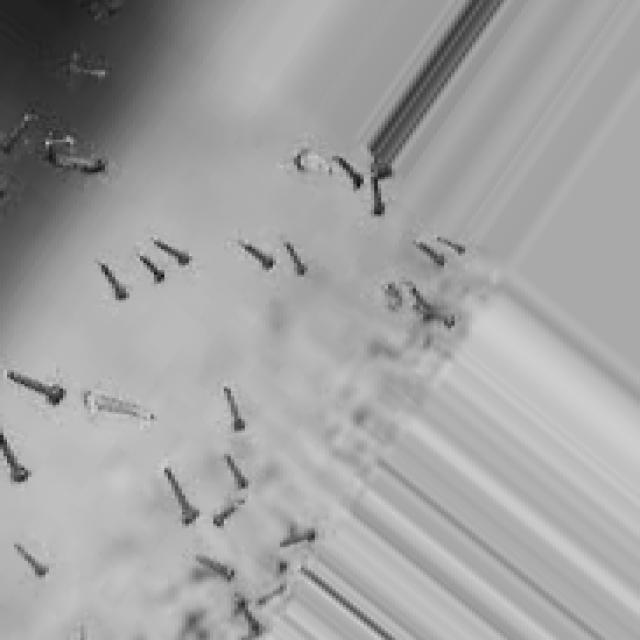larvas: (41, 140, 105, 172), (161, 468, 197, 523), (10, 370, 67, 402), (5, 110, 40, 146), (230, 597, 265, 632), (225, 380, 247, 434), (0, 430, 24, 479), (149, 240, 194, 265), (68, 54, 112, 78), (15, 545, 49, 575), (102, 263, 130, 298), (256, 580, 291, 604), (137, 255, 164, 284), (294, 148, 324, 174), (240, 246, 277, 267), (198, 555, 231, 578), (288, 240, 310, 274), (280, 527, 319, 546), (415, 311, 460, 327), (228, 454, 247, 491), (212, 499, 238, 525), (335, 159, 361, 182), (438, 237, 469, 256), (372, 175, 383, 219), (407, 288, 429, 308), (423, 244, 442, 263)
